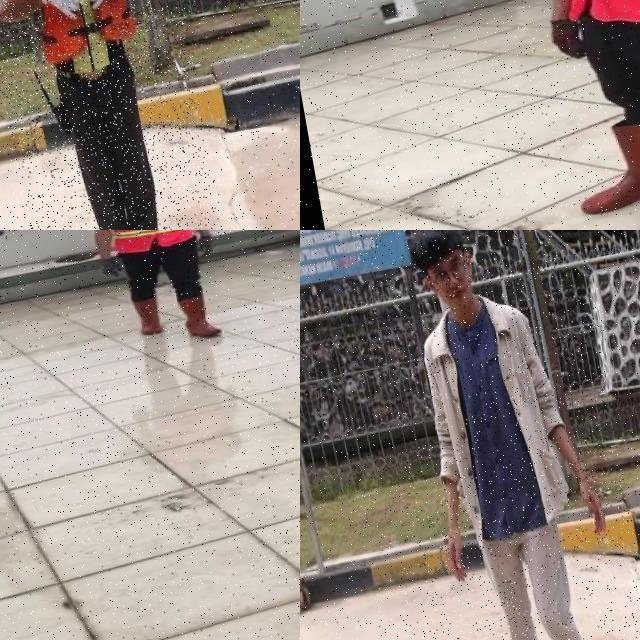boots: (568, 116, 640, 216), (176, 290, 220, 340), (128, 295, 164, 338)
vest: (26, 0, 141, 79), (100, 230, 195, 256)
